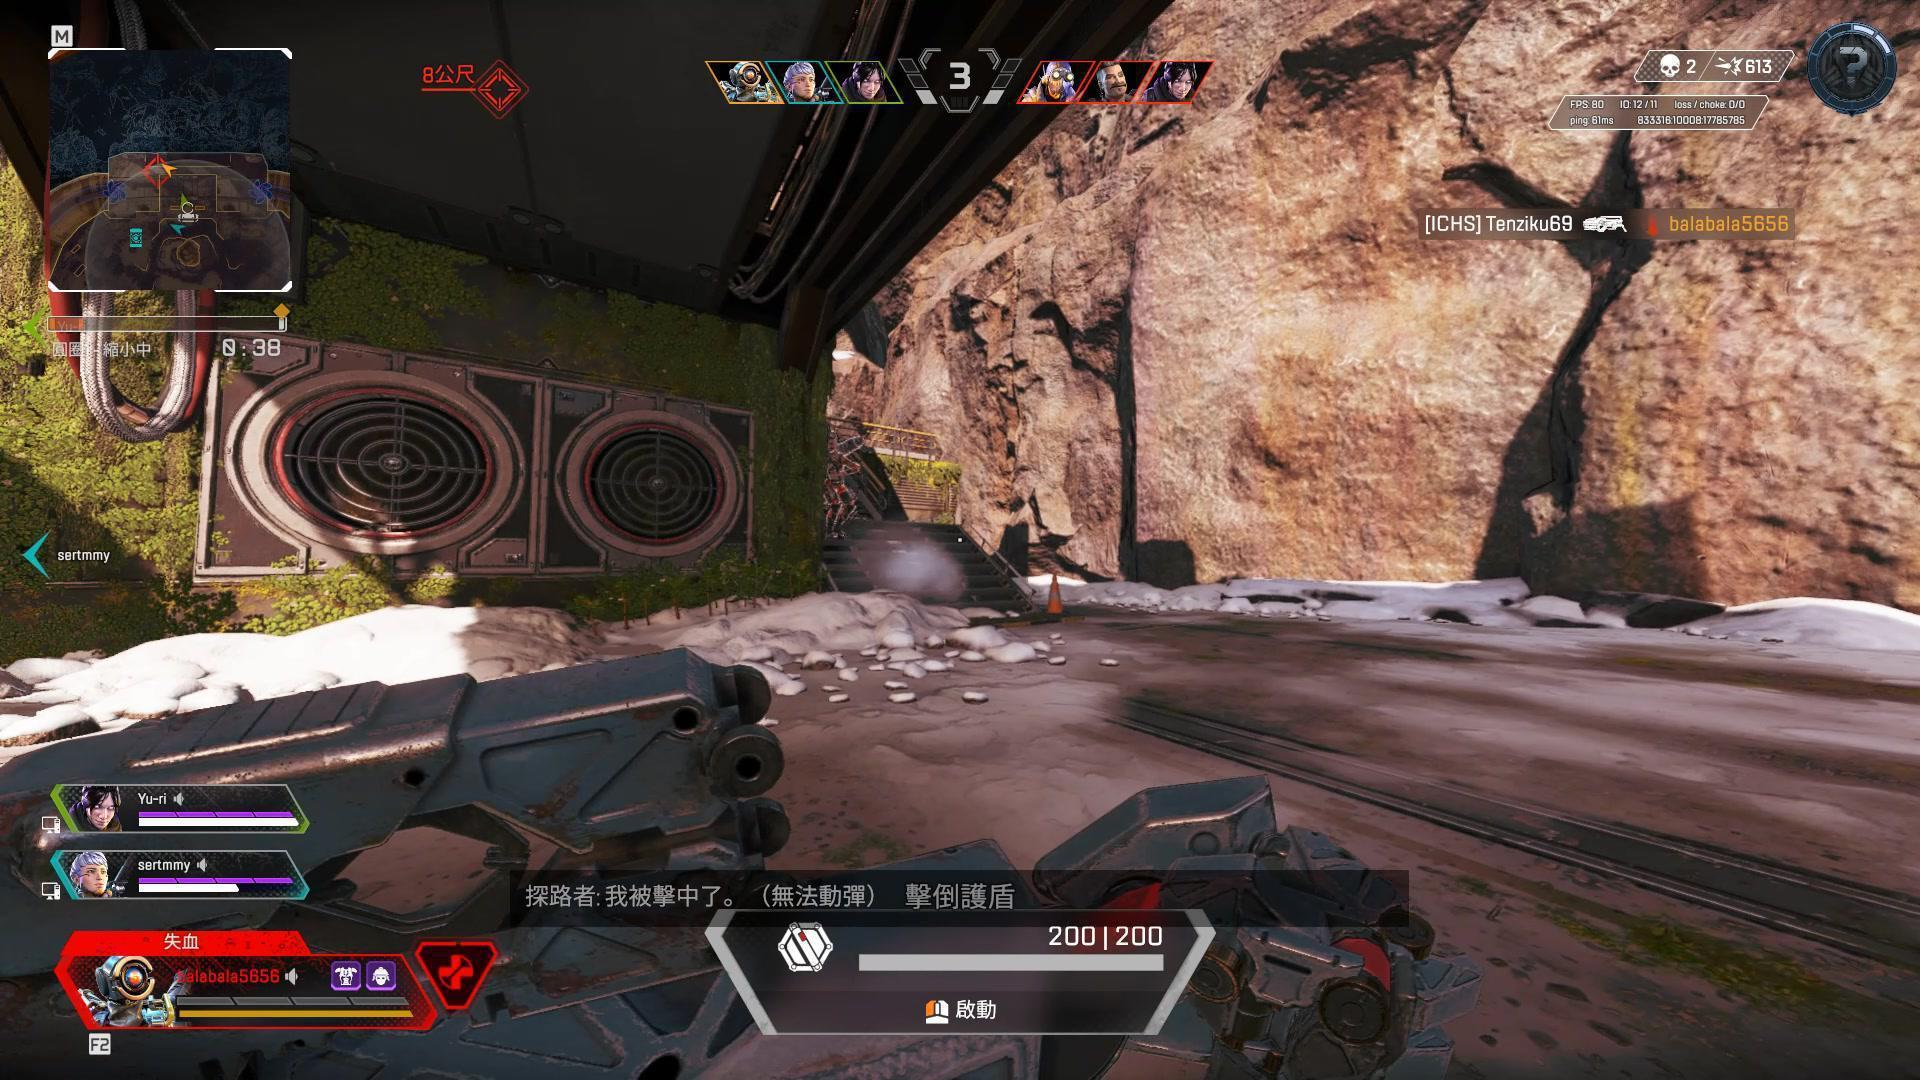avatar: (818, 433, 866, 537)
